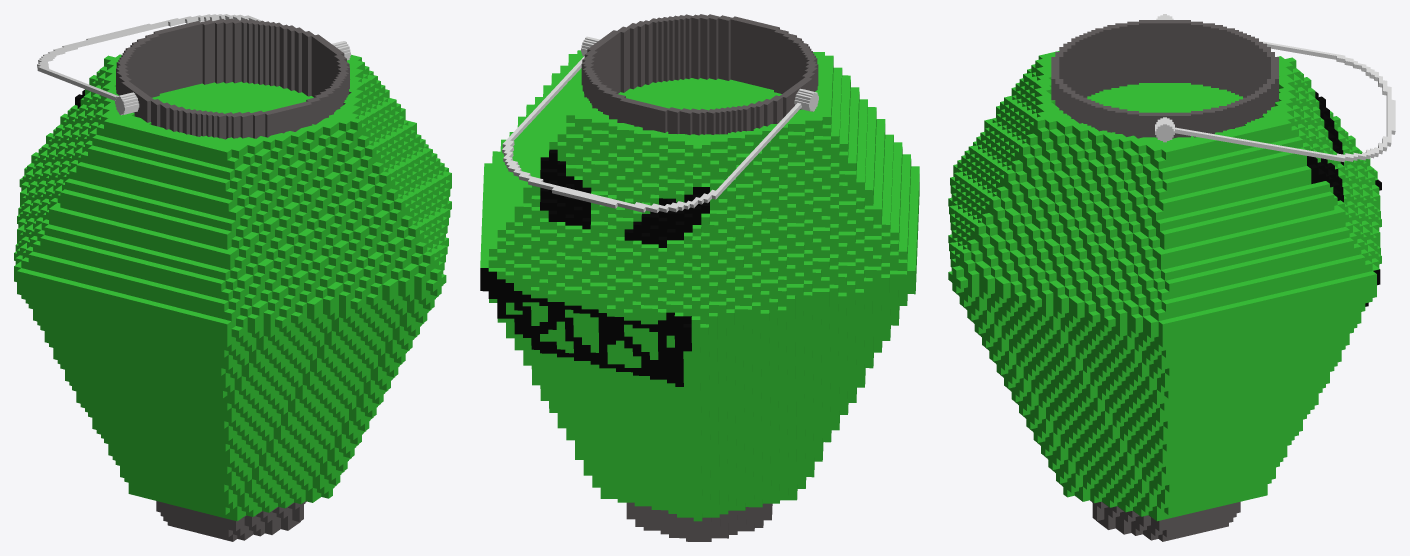
Rendered from limelanternVoxel.fbx.
3 views of the same model, side by side, from view 1: azimuth 30°, elevation 25°; view 2: azimuth 150°, elevation 25°; view 3: azimuth 270°, elevation 25° (orthographic).
Parts seen in each view (by area): view 1: Cone.001, Cylinder, Vert, Cylinder.001; view 2: Cone.001, Cylinder, Vert, Cylinder.001; view 3: Cone.001, Cylinder, Vert.
Part boxes in pixels (x1,y1,x2,y2): Cone.001: (14,54,451,541); Cylinder: (116,18,349,139); Vert: (37,14,264,100); Cylinder.001: (115,41,350,115); Cone.001: (480,50,919,541); Cylinder: (581,14,818,135); Vert: (502,56,801,212); Cylinder.001: (581,36,818,111); Cone.001: (948,51,1381,541); Cylinder: (1051,20,1278,138); Vert: (1175,41,1395,162).
Size of the model in its own units: 391 by 385 by 353.
